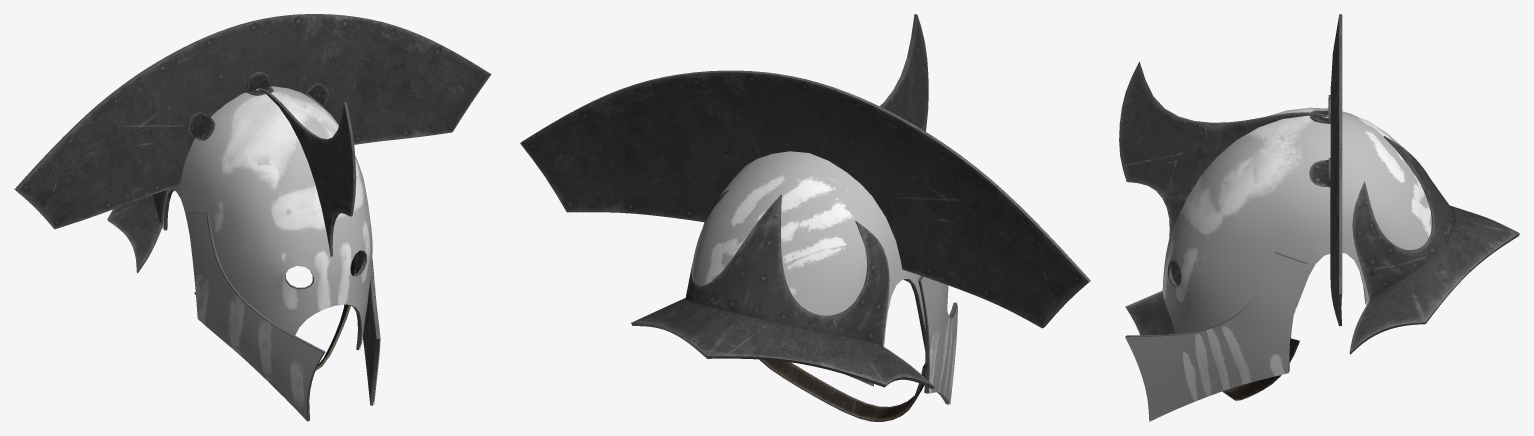
Rendered from sk_uruk_hai_helmet_command_a1.fbx.
3 renders of one model, left to right at view 1: azimuth 30°, elevation 25°; view 2: azimuth 150°, elevation 25°; view 3: azimuth 270°, elevation 25°, orthographic. The views are drawn at different scales.
Parts seen in each view (by area): view 1: sk_uruk_hai_helmet_command_a1.0, sk_uruk_hai_helmet_command_a1.1, sk_uruk_hai_helmet_command_a1.2; view 2: sk_uruk_hai_helmet_command_a1.0, sk_uruk_hai_helmet_command_a1.1, sk_uruk_hai_helmet_command_a1.2; view 3: sk_uruk_hai_helmet_command_a1.1, sk_uruk_hai_helmet_command_a1.0, sk_uruk_hai_helmet_command_a1.2.
Part boxes in pixels (x1,y1,x2,y2): sk_uruk_hai_helmet_command_a1.0: [14, 14, 491, 421]; sk_uruk_hai_helmet_command_a1.1: [162, 86, 380, 421]; sk_uruk_hai_helmet_command_a1.2: [194, 257, 355, 370]; sk_uruk_hai_helmet_command_a1.0: [520, 14, 1090, 404]; sk_uruk_hai_helmet_command_a1.1: [692, 151, 957, 404]; sk_uruk_hai_helmet_command_a1.2: [759, 356, 932, 421]; sk_uruk_hai_helmet_command_a1.1: [1125, 107, 1431, 421]; sk_uruk_hai_helmet_command_a1.0: [1119, 14, 1519, 372]; sk_uruk_hai_helmet_command_a1.2: [1222, 338, 1299, 400].
Bounding box in the file's own units: 0.5669 × 0.3803 × 0.3734.
3 materials, 3 textured.
